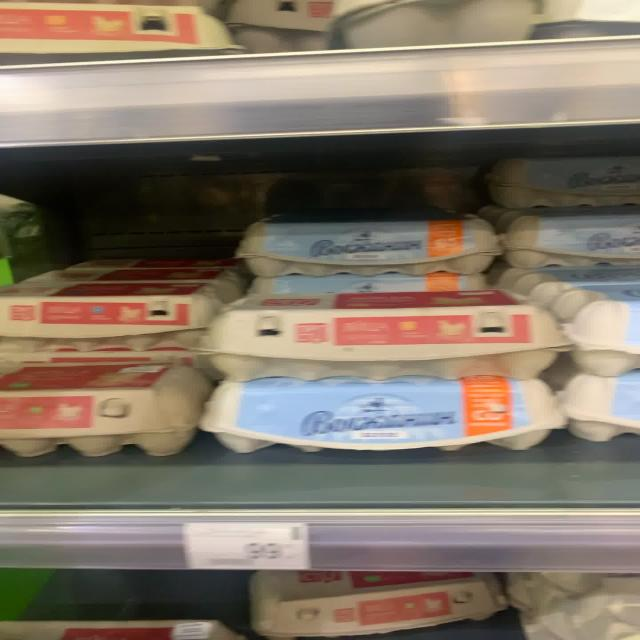egg box: (194, 373, 568, 461), (201, 296, 562, 377), (238, 565, 510, 637), (0, 353, 187, 456), (229, 211, 503, 277), (3, 263, 200, 349)
